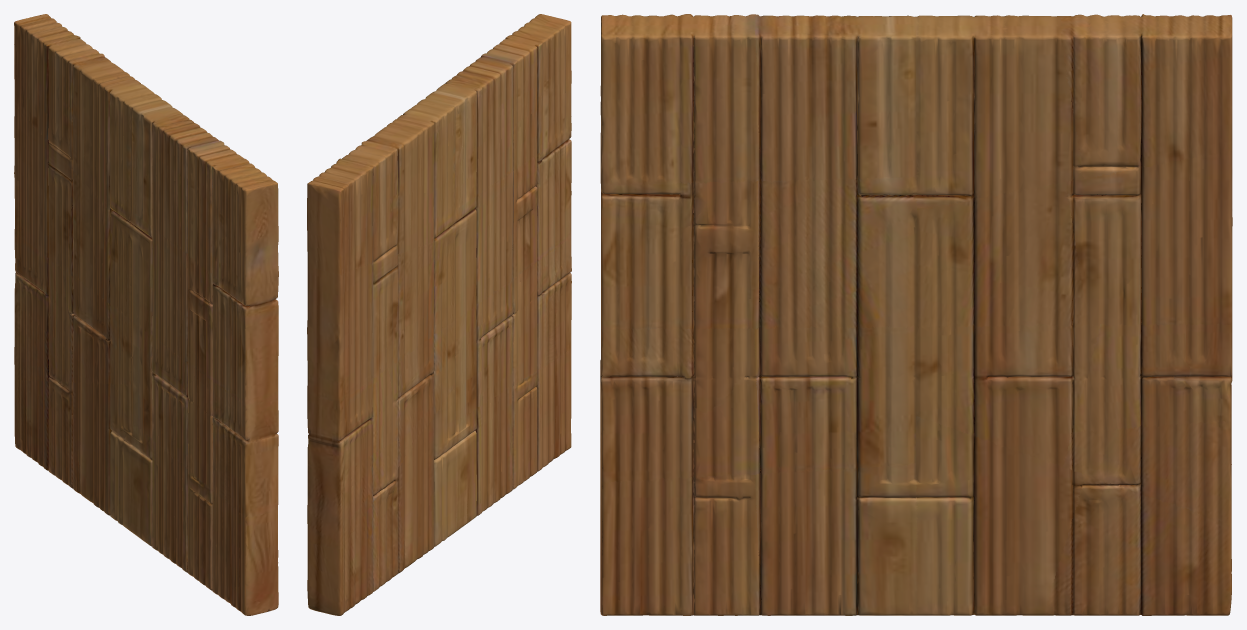
Rendered from 木质护墙板.glb.
3 renders of one model, left to right at view 1: azimuth 30°, elevation 25°; view 2: azimuth 150°, elevation 25°; view 3: azimuth 270°, elevation 25°, orthographic. The views are drawn at different scales.
Parts seen in each view (by area): view 1: tripo_node_94808763-8398-491f-86ec-961428207524; view 2: tripo_node_94808763-8398-491f-86ec-961428207524; view 3: tripo_node_94808763-8398-491f-86ec-961428207524.
Boxes of the visible parts, x1,y1,x2,y2 form: tripo_node_94808763-8398-491f-86ec-961428207524: (14, 14, 278, 615); tripo_node_94808763-8398-491f-86ec-961428207524: (307, 14, 571, 615); tripo_node_94808763-8398-491f-86ec-961428207524: (600, 14, 1232, 615).
Size of the model in its own units: 0.0857 by 1 by 0.9853.
Materials: 1 (1 with a texture image).
